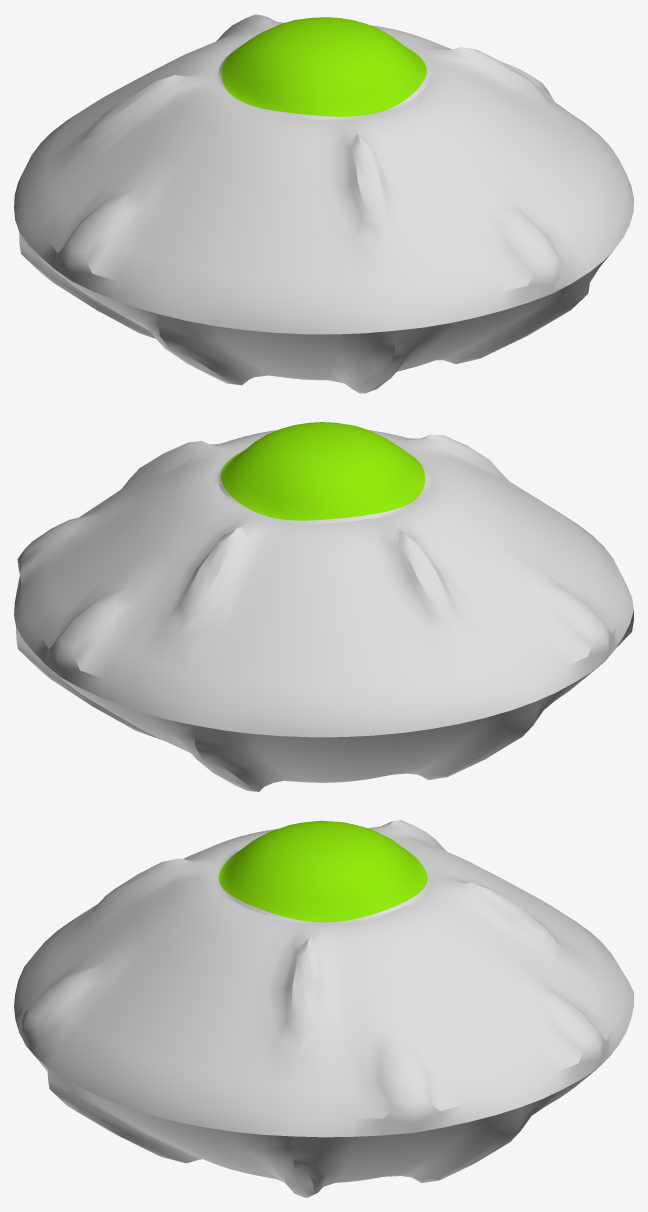
The model's file is spaceship.fbx.
3 views of the same model, one above another, from view 1: azimuth 30°, elevation 25°; view 2: azimuth 150°, elevation 25°; view 3: azimuth 270°, elevation 25° (orthographic).
Parts seen in each view (by area): view 1: Cube; view 2: Cube; view 3: Cube.
Boxes of the visible parts, x1=… form: Cube: x1=14, y1=14, x2=633, y2=393; Cube: x1=14, y1=422, x2=633, y2=791; Cube: x1=14, y1=820, x2=633, y2=1197.
Bounding box in the file's own units: 221 × 222 × 117.
